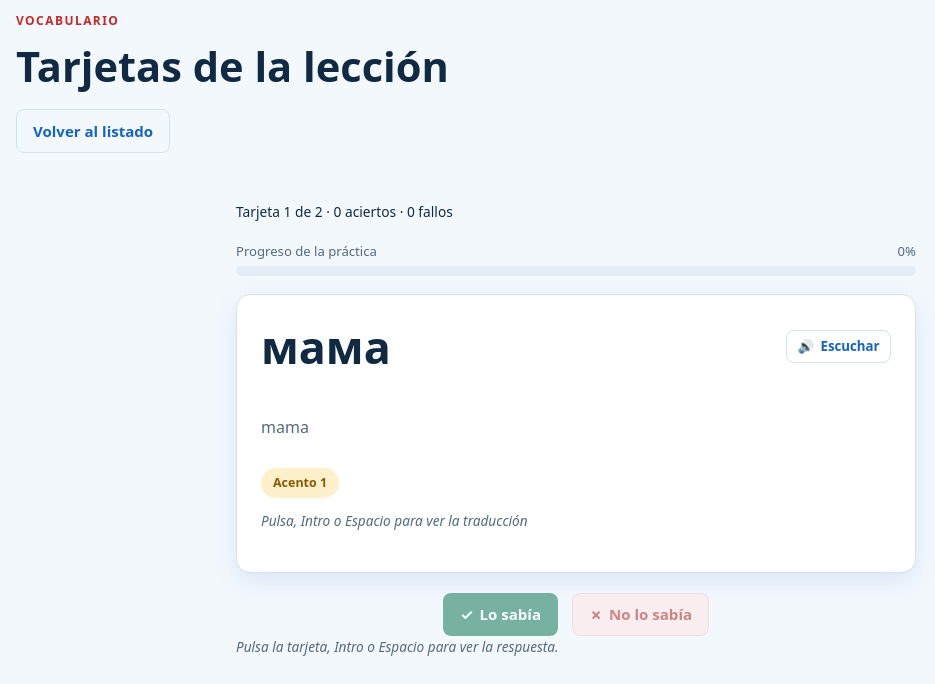
práctica de todas las tarjetas de la lección › muestra el XP ganado al acertar una tarjeta
The width and height of the screenshot is (935, 684).
Press Enter in the button with aria-label "tarjeta: мама", box [236,294,916,572]
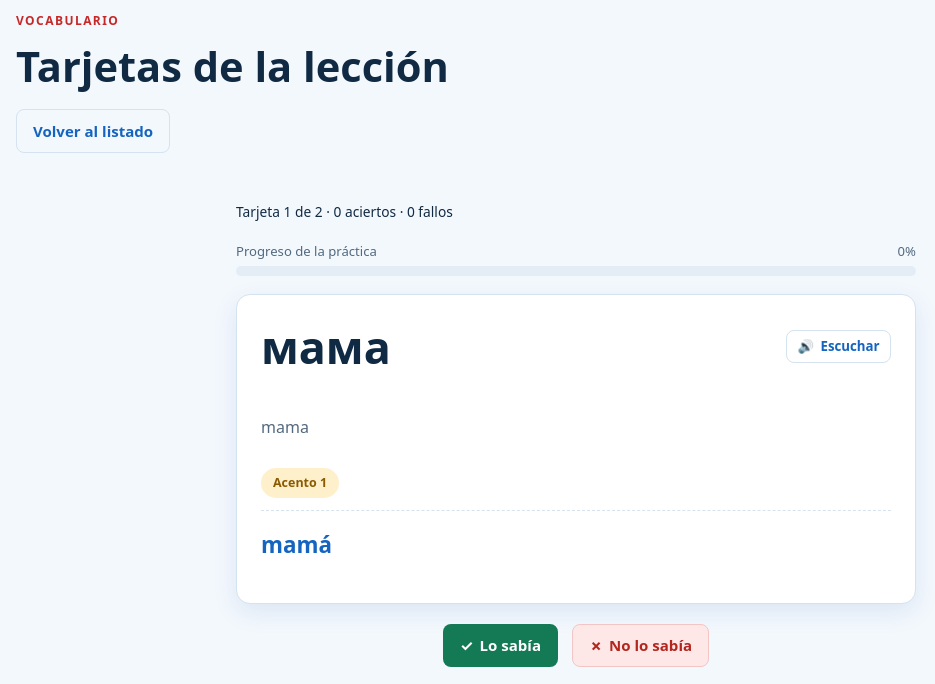
Expected: the button with aria-label "Lo sabía: subir de caja" is enabled
Click the button with aria-label "Lo sabía: subir de caja" at x=500, y=645, box [443,624,558,667]
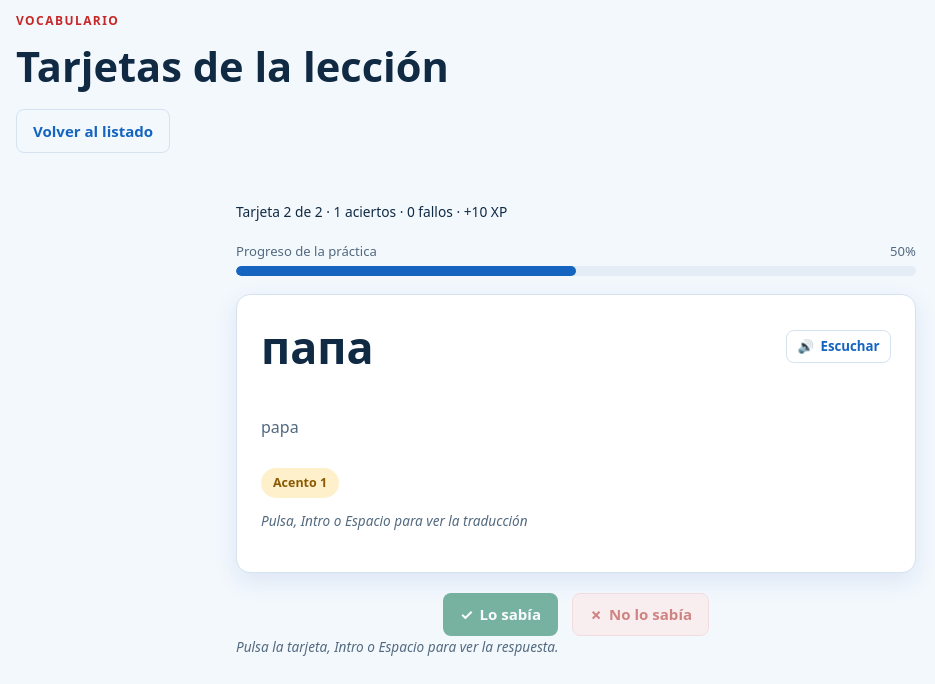
Expected: the text "Tarjeta 2 de 2 · 1 aciertos · 0 fallos · +10 XP" is shown, [236,202,507,221]
